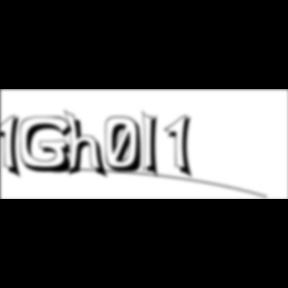0: (104, 115, 150, 174)
1: (164, 114, 198, 182), (1, 114, 28, 182)
G: (20, 116, 78, 176)
h: (65, 108, 112, 182)
l: (142, 108, 166, 182)
